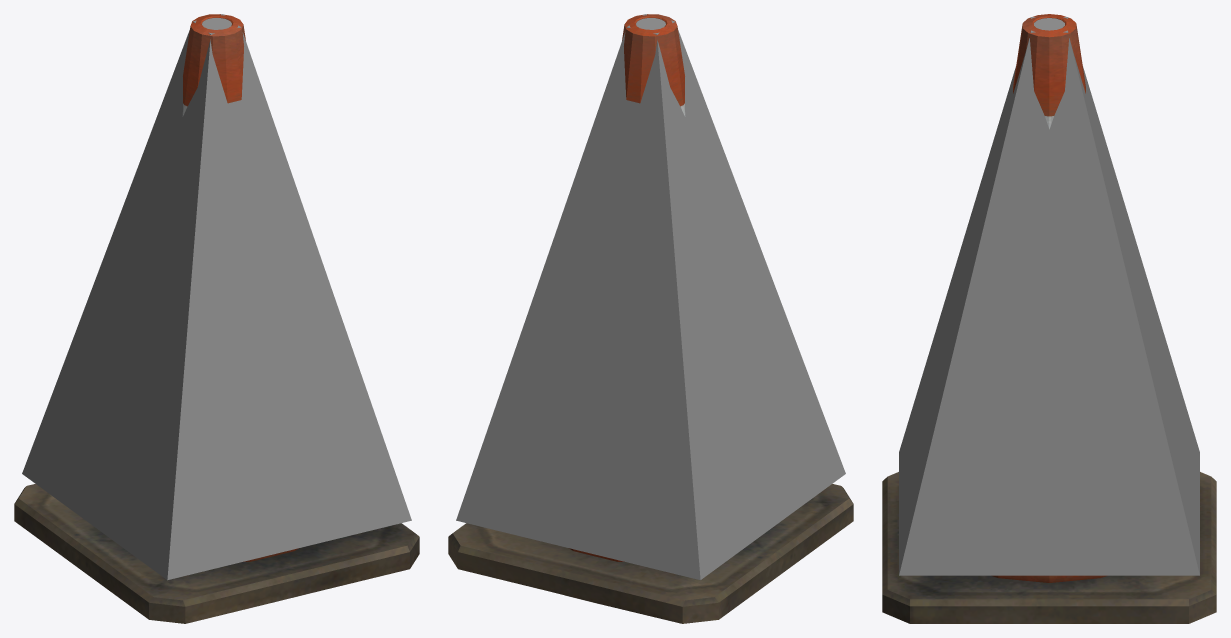
File: gr_cono.FBX
The picture shows the model from 3 angles, left to right: view 1: azimuth 30°, elevation 25°; view 2: azimuth 150°, elevation 25°; view 3: azimuth 270°, elevation 25°; orthographic projection. The views are drawn at different scales.
Parts seen in each view (by area): view 1: gr_cono_coll, gr_cono; view 2: gr_cono_coll, gr_cono; view 3: gr_cono_coll, gr_cono.
Boxes of the visible parts, bbox=[...] form: gr_cono_coll: bbox=[22, 14, 411, 580]; gr_cono: bbox=[14, 14, 419, 623]; gr_cono_coll: bbox=[456, 14, 845, 580]; gr_cono: bbox=[448, 14, 853, 623]; gr_cono_coll: bbox=[899, 17, 1199, 575]; gr_cono: bbox=[882, 14, 1216, 623].
Size of the model in its own units: 28.74 by 52.25 by 29.7.
